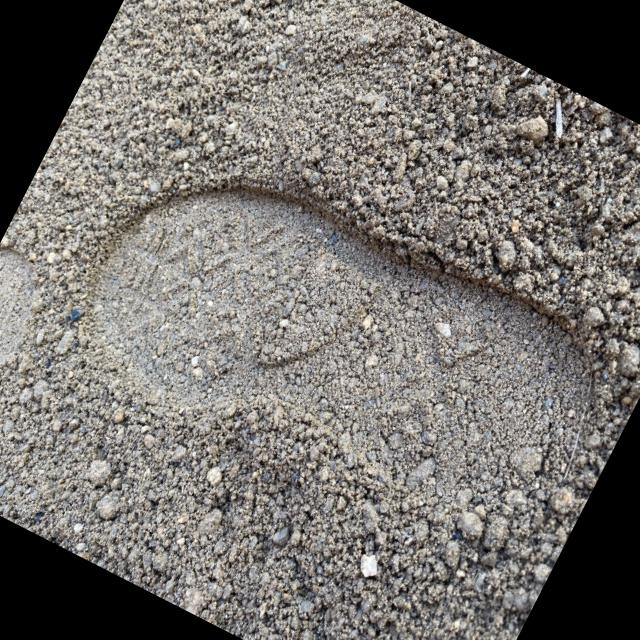human_foot_print: (99, 128, 616, 524)
